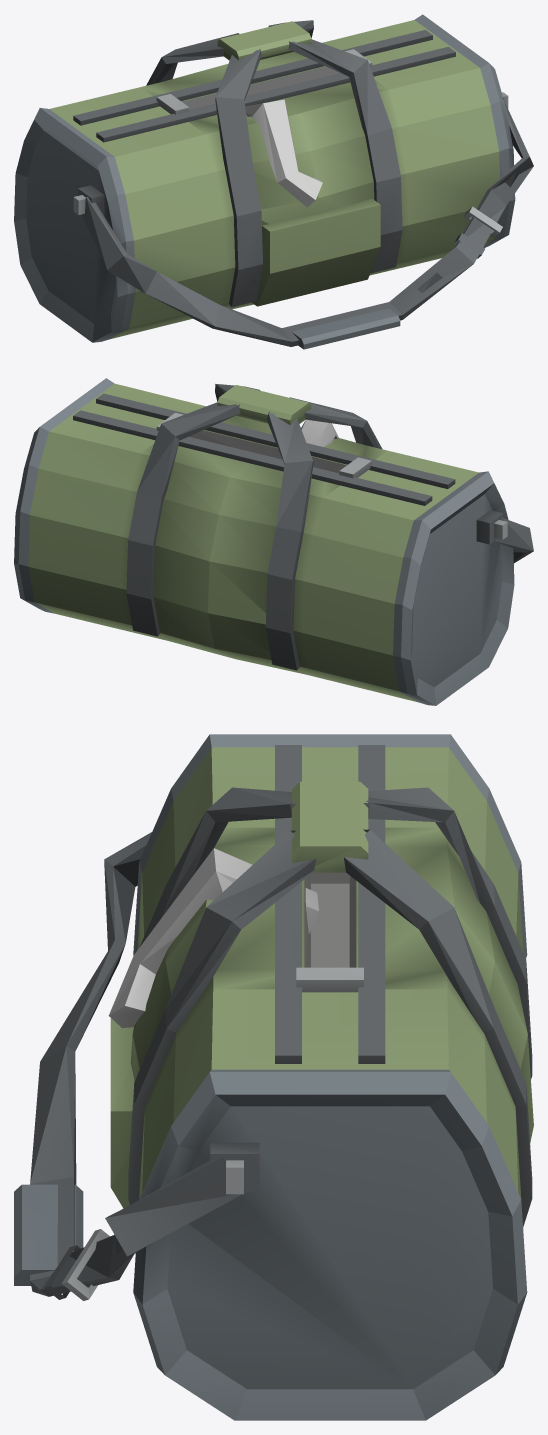
The model's file is kitbag.glb.
3 renders of one model, top to bottom at view 1: azimuth 30°, elevation 25°; view 2: azimuth 150°, elevation 25°; view 3: azimuth 270°, elevation 25°, orthographic. The views are drawn at different scales.
Visible parts, largest first — view 1: kitbag; view 2: kitbag; view 3: kitbag.
Part boxes in pixels (x1,y1,x2,y2): kitbag: (14, 14, 533, 349); kitbag: (14, 378, 533, 705); kitbag: (14, 734, 533, 1420).
Size of the model in its own units: 1.04 by 0.5522 by 0.6032.
